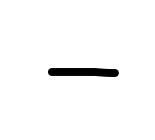minus: (47, 64, 120, 78)
